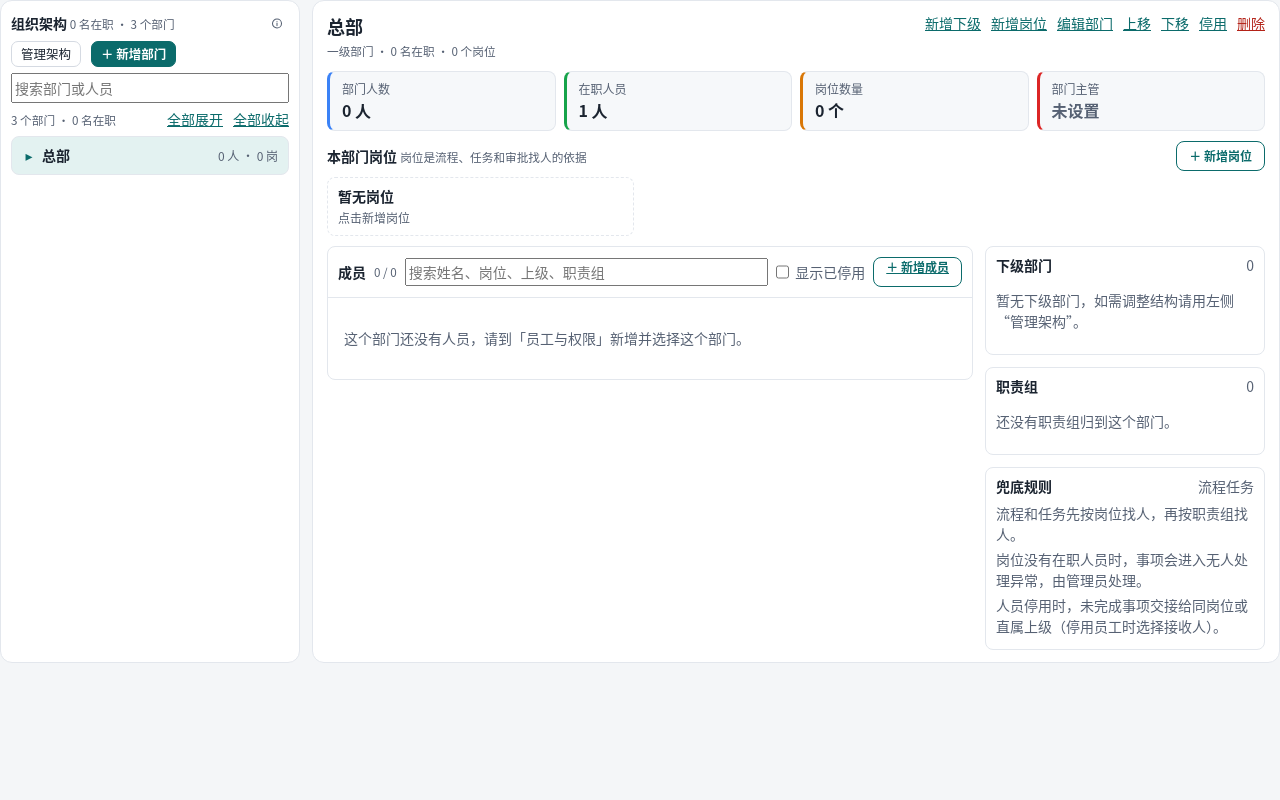
Scenario: 组织架构：旧版“左树右卷宗”结构 › 右侧“职责组”区列出本部门的职责组，并显示成员数
Check: the button "总部" is shown, box [42,145,214,166]
Click the button named "展开总部" at [29, 156], box [20,145,38,166]
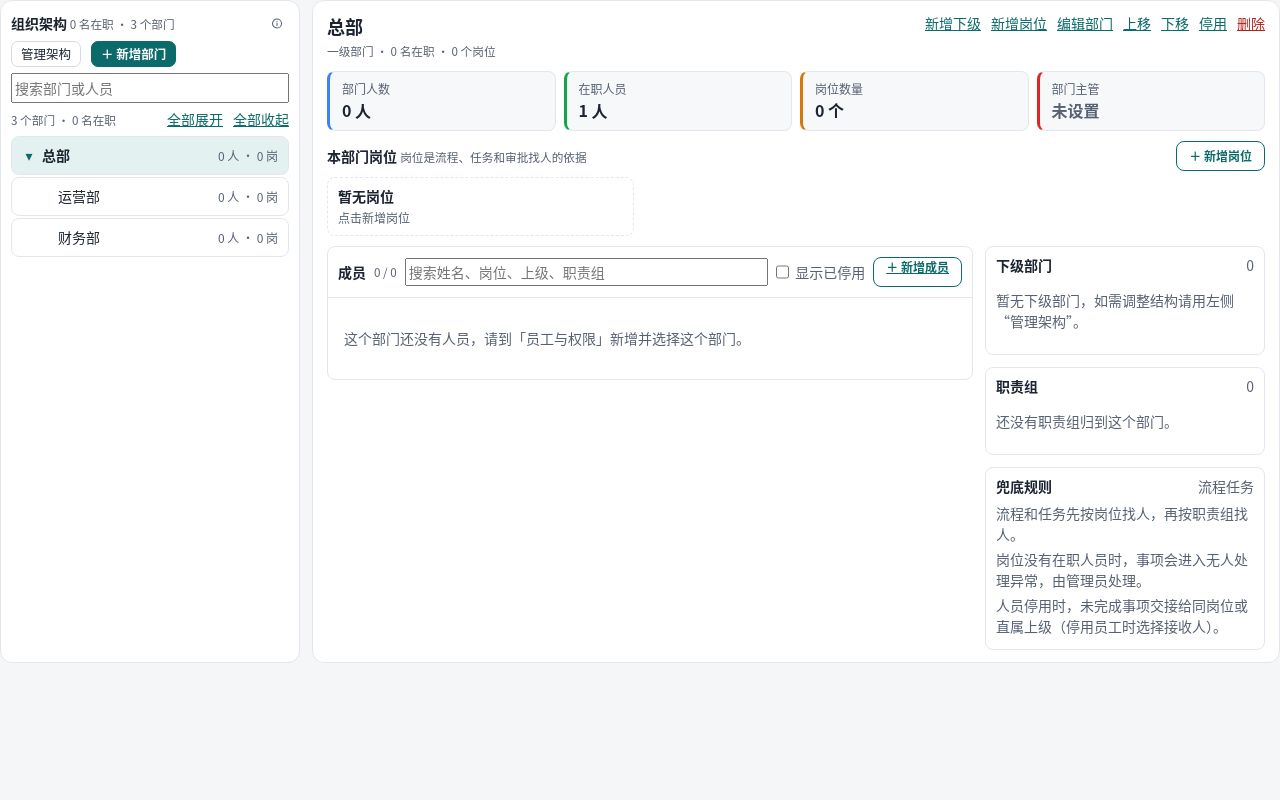
Click the button "运营部" at [136, 196], box [58,186,214,207]
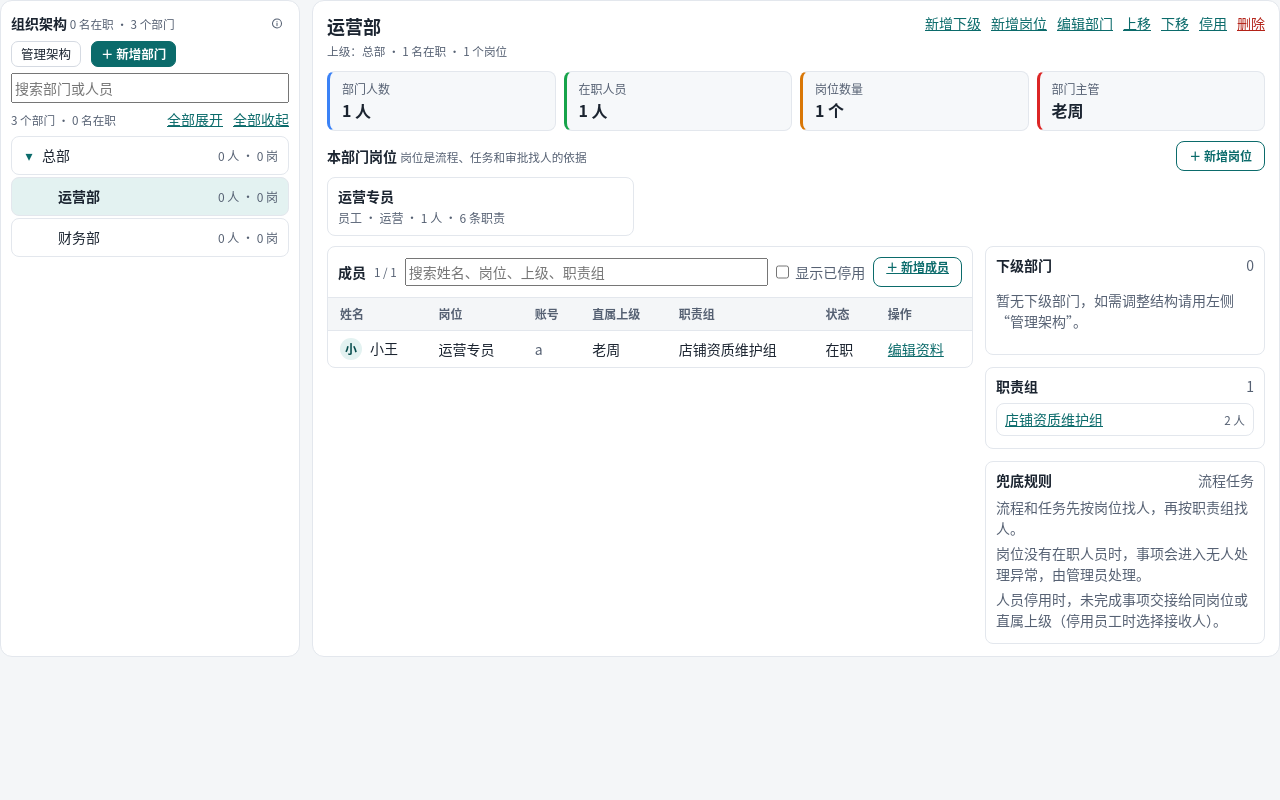
Check: the link "店铺资质维护组" is shown, box [1005,409,1103,430]
